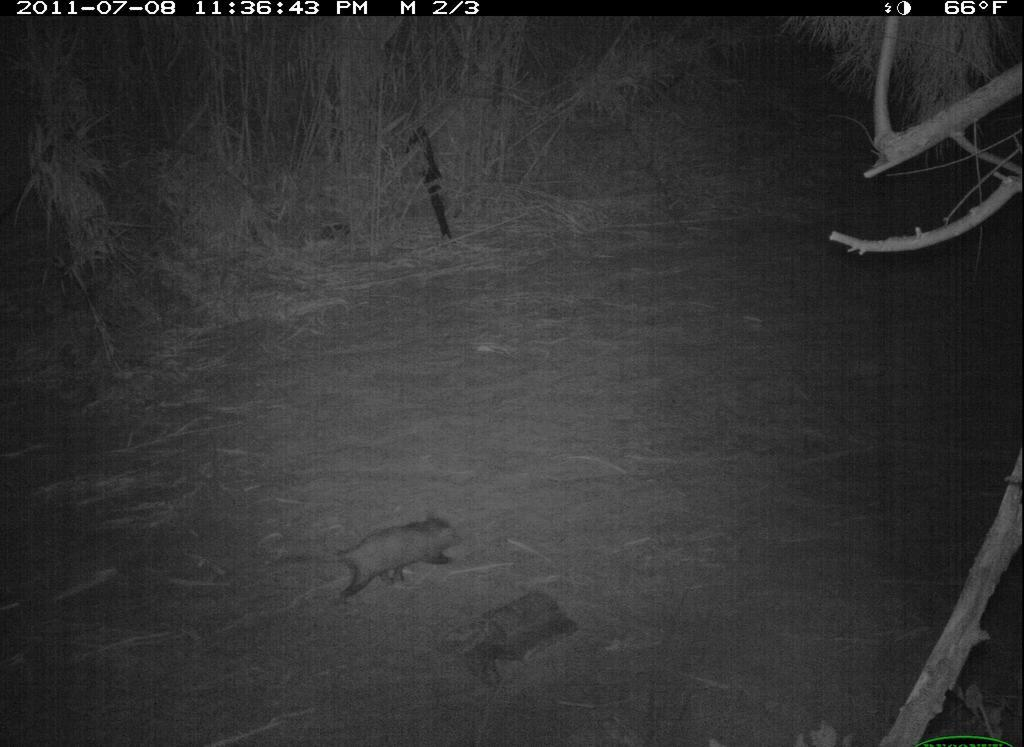opossum: (301, 509, 469, 606)
